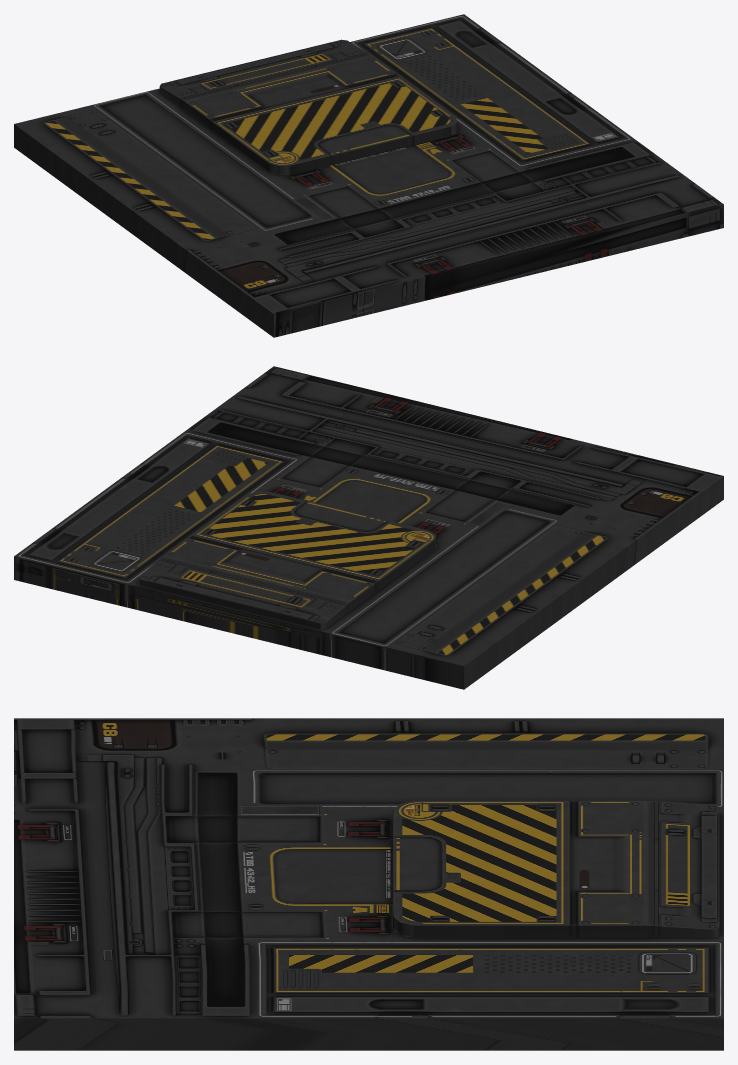
File: Wall_4x4_L3_B.FBX
3 views of the same model, one above another, from view 1: azimuth 30°, elevation 25°; view 2: azimuth 150°, elevation 25°; view 3: azimuth 270°, elevation 25° (orthographic). The views are drawn at different scales.
Parts seen in each view (by area): view 1: Wall_4x4_L3_B; view 2: Wall_4x4_L3_B; view 3: Wall_4x4_L3_B.
Part boxes in pixels (<box>): Wall_4x4_L3_B: <box>14,14,723,337</box>; Wall_4x4_L3_B: <box>14,366,723,689</box>; Wall_4x4_L3_B: <box>14,718,723,1050</box>.
Size of the model in its own units: 400 by 27.58 by 400.
